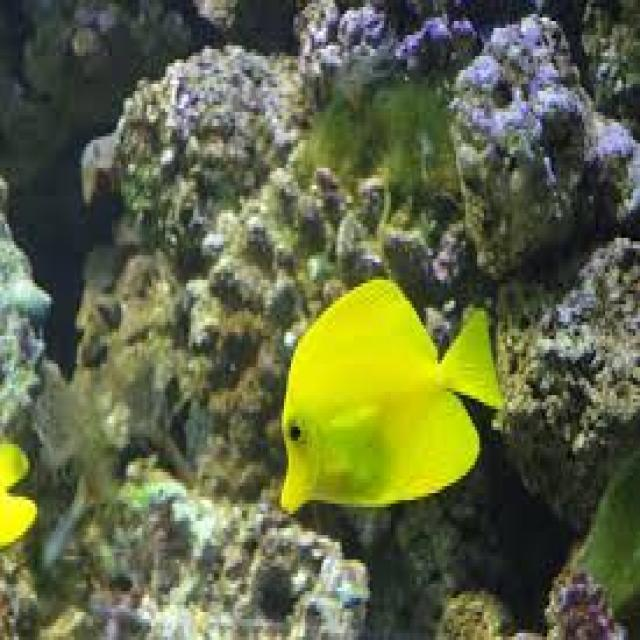TangFish: (276, 275, 504, 519)
